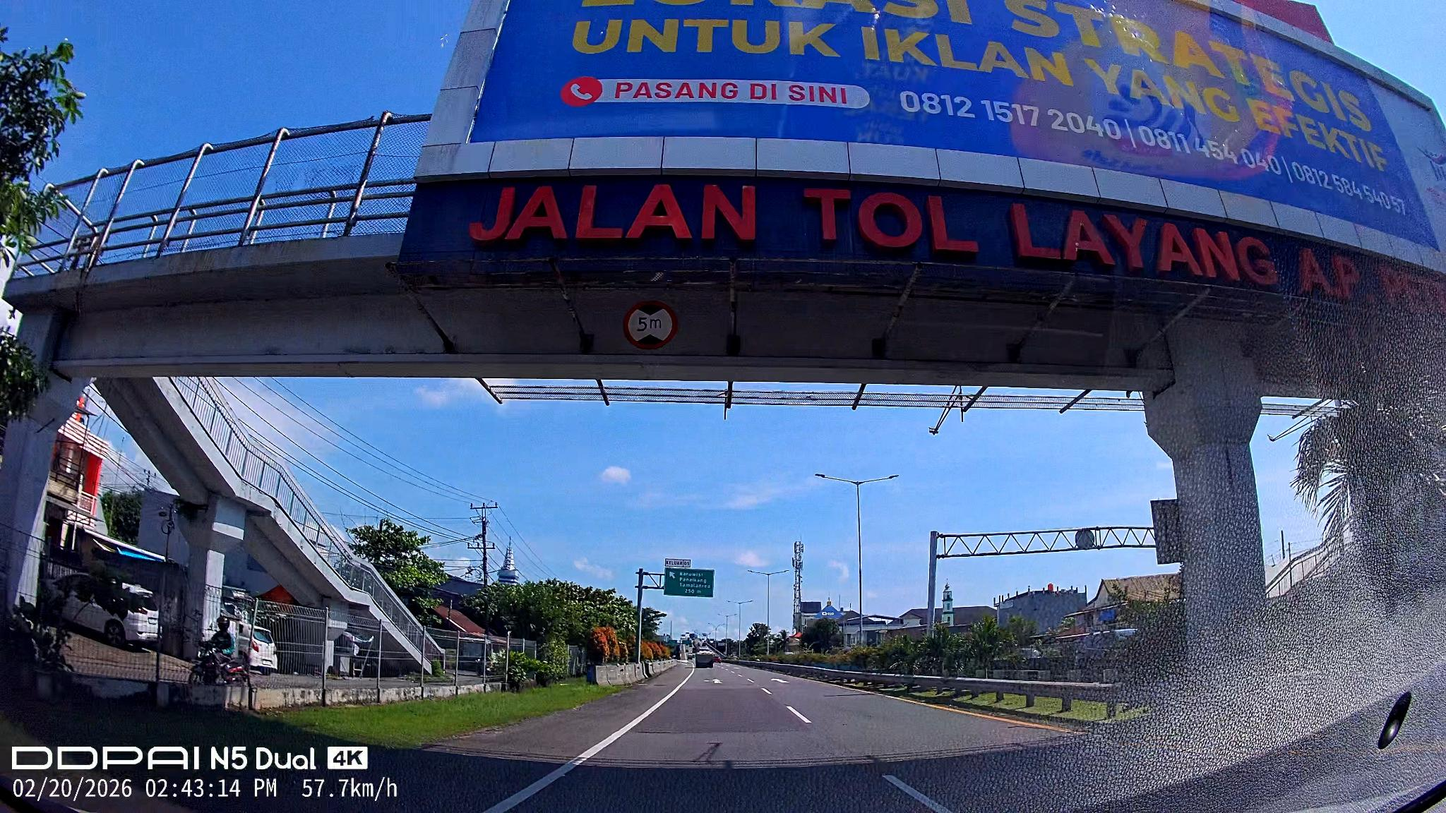rambu_teks: (664, 567, 714, 598)
